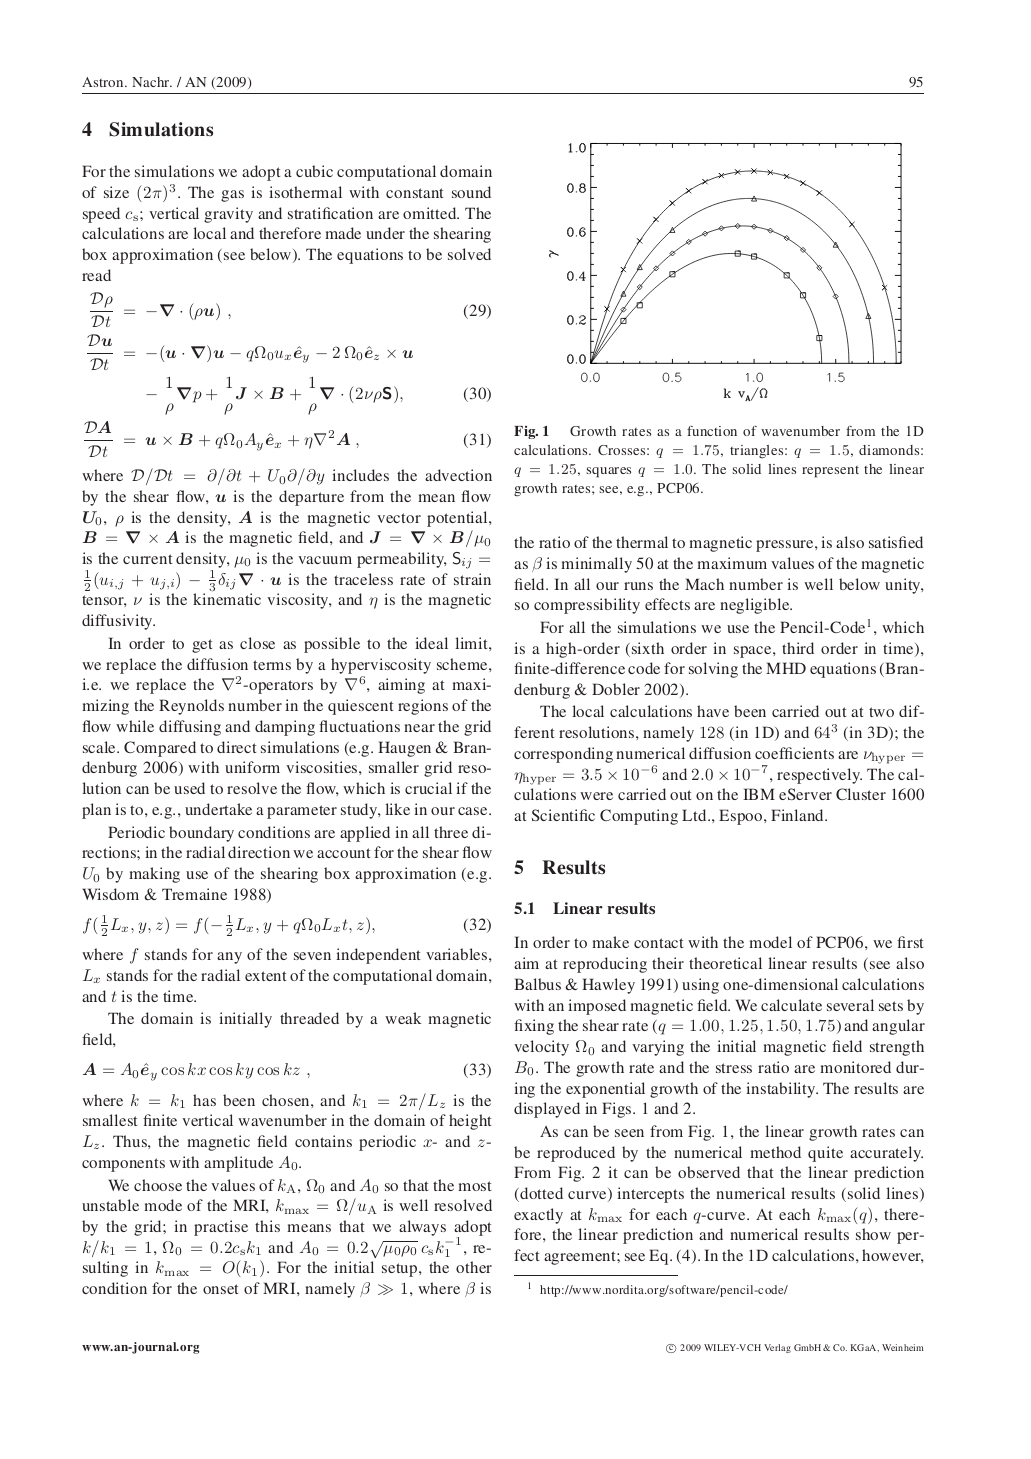figure: (549, 142, 900, 400)
formula: (84, 421, 490, 458), (90, 291, 490, 328), (146, 375, 490, 415), (87, 332, 412, 371), (83, 914, 490, 936), (81, 1061, 490, 1081)
